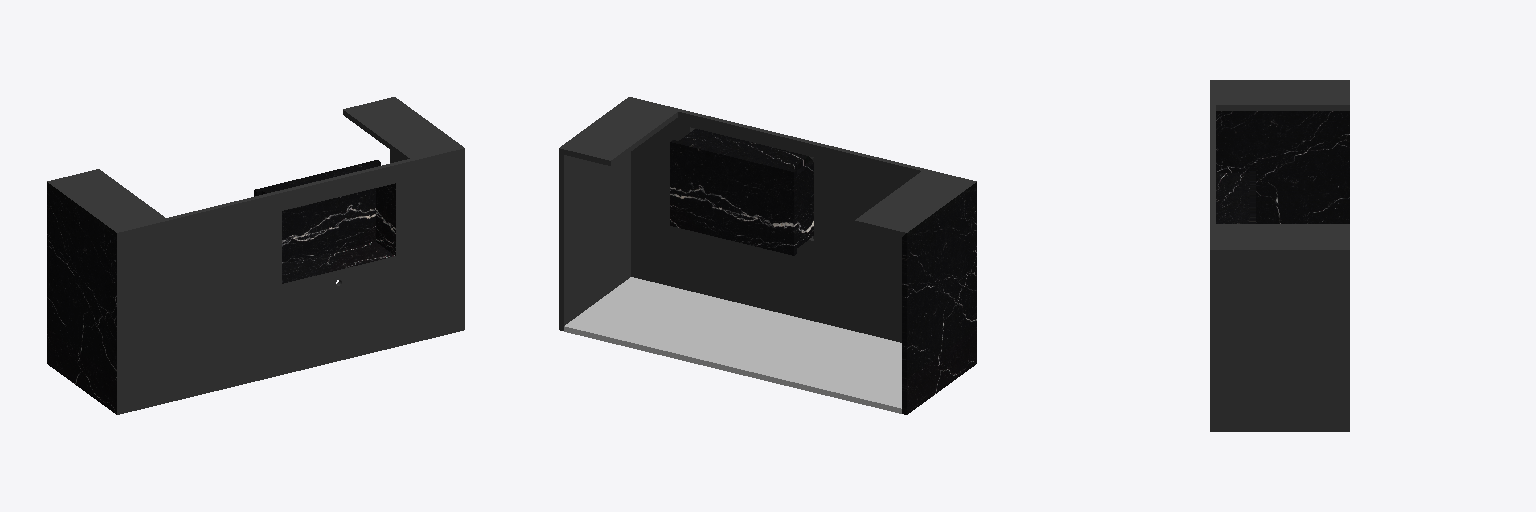
3 renders of one model, left to right at view 1: azimuth 30°, elevation 25°; view 2: azimuth 150°, elevation 25°; view 3: azimuth 270°, elevation 25°, orthographic.
Visible parts, largest first — view 1: Object_2028, Object_1982, Object_2013, Object_2014, Object_2035, Object_1994, Object_2018, Object_21, Object_17, Object_2012, Object_2019, Object_2015 (+8 smaller); view 2: Object_1990, Object_1982, Object_1986, Object_2064, Object_2078, Object_2051, Object_21, Object_17, Object_2077, Object_2076, Object_9, Object_264 (+13 smaller); view 3: Object_1986, Object_1982, Object_17, Object_21, Object_9.
Part boxes in pixels (bbox=[...]): Object_2028: bbox=[118, 286, 463, 414]; Object_1982: bbox=[47, 182, 116, 414]; Object_2013: bbox=[117, 211, 281, 414]; Object_2014: bbox=[119, 212, 281, 412]; Object_2035: bbox=[117, 221, 168, 413]; Object_1994: bbox=[413, 148, 464, 327]; Object_2018: bbox=[396, 162, 464, 328]; Object_21: bbox=[343, 97, 463, 160]; Object_17: bbox=[47, 169, 168, 232]; Object_2012: bbox=[119, 283, 334, 413]; Object_2019: bbox=[343, 256, 464, 329]; Object_2015: bbox=[173, 161, 412, 219]; Object_1990: bbox=[564, 277, 901, 413]; Object_1982: bbox=[902, 182, 976, 414]; Object_1986: bbox=[559, 149, 630, 330]; Object_2064: bbox=[641, 242, 901, 342]; Object_2078: bbox=[814, 158, 901, 310]; Object_2051: bbox=[631, 138, 676, 277]; Object_21: bbox=[559, 97, 680, 165]; Object_17: bbox=[855, 169, 976, 236]; Object_2077: bbox=[815, 158, 915, 273]; Object_2076: bbox=[790, 241, 901, 322]; Object_9: bbox=[679, 129, 811, 169]; Object_264: bbox=[716, 157, 789, 243]; Object_1986: bbox=[1210, 250, 1349, 431]; Object_1982: bbox=[1216, 111, 1349, 223]; Object_17: bbox=[1210, 80, 1349, 110]; Object_21: bbox=[1210, 224, 1349, 249]; Object_9: bbox=[1216, 173, 1249, 223].
Bounding box in the file's own units: 2000 × 1001 × 700.
4 materials, 1 textured.